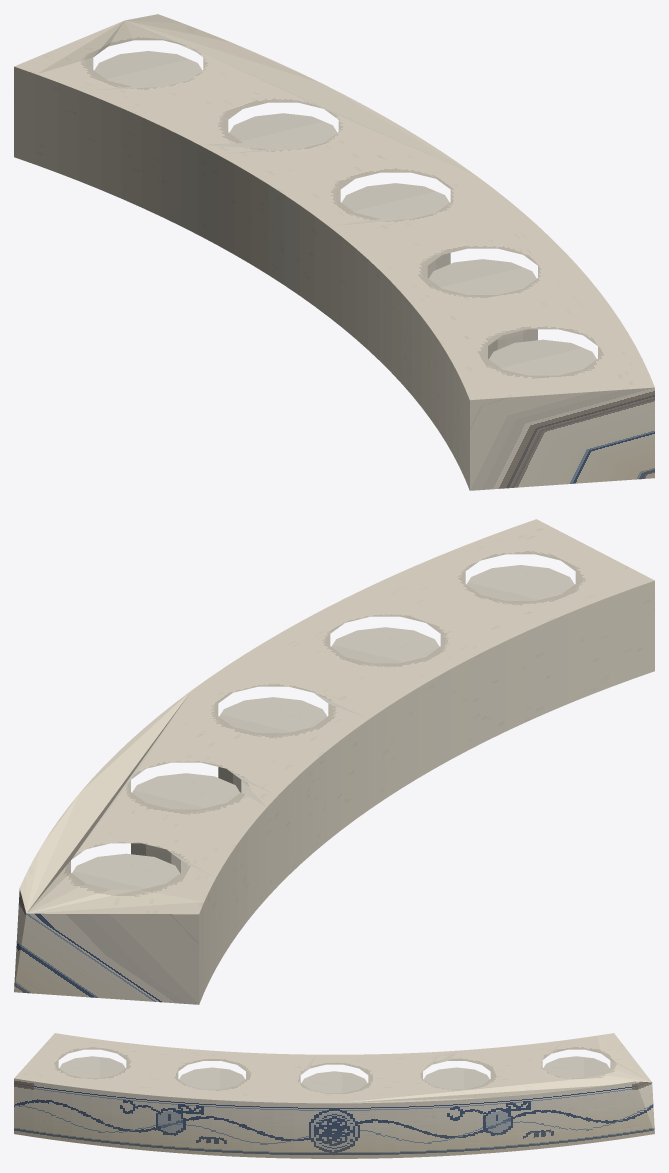
3 views of the same model, one above another, from view 1: azimuth 30°, elevation 25°; view 2: azimuth 150°, elevation 25°; view 3: azimuth 270°, elevation 25° (orthographic). The views are drawn at different scales.
Parts seen in each view (by area): view 1: de_than, de_o_lom_4, de_o_lom_1, de_o_lom_5, de_o_lom_2, de_o_lom_3; view 2: de_than, de_o_lom_4, de_o_lom_2, de_o_lom_5, de_o_lom_1, de_o_lom_3; view 3: de_than, de_o_lom_3, de_o_lom_1, de_o_lom_5, de_o_lom_2, de_o_lom_4.
Part boxes in pixels (<box>): de_than: <box>14,14,654,490</box>; de_o_lom_4: <box>229,113,337,149</box>; de_o_lom_1: <box>489,339,596,375</box>; de_o_lom_5: <box>94,51,202,86</box>; de_o_lom_2: <box>428,259,536,294</box>; de_o_lom_3: <box>341,183,449,218</box>; de_than: <box>14,519,654,1004</box>; de_o_lom_4: <box>132,773,240,809</box>; de_o_lom_2: <box>331,627,439,663</box>; de_o_lom_5: <box>72,853,179,889</box>; de_o_lom_1: <box>466,565,574,600</box>; de_o_lom_3: <box>219,697,327,732</box>; de_than: <box>14,1033,654,1158</box>; de_o_lom_3: <box>301,1071,367,1093</box>; de_o_lom_1: <box>59,1056,125,1078</box>; de_o_lom_5: <box>543,1056,609,1078</box>; de_o_lom_2: <box>179,1067,245,1089</box>; de_o_lom_4: <box>423,1067,489,1089</box>.
Size of the model in its own units: 0.1085 by 0.04 by 0.4179.
Materials: 1 (1 with a texture image).
